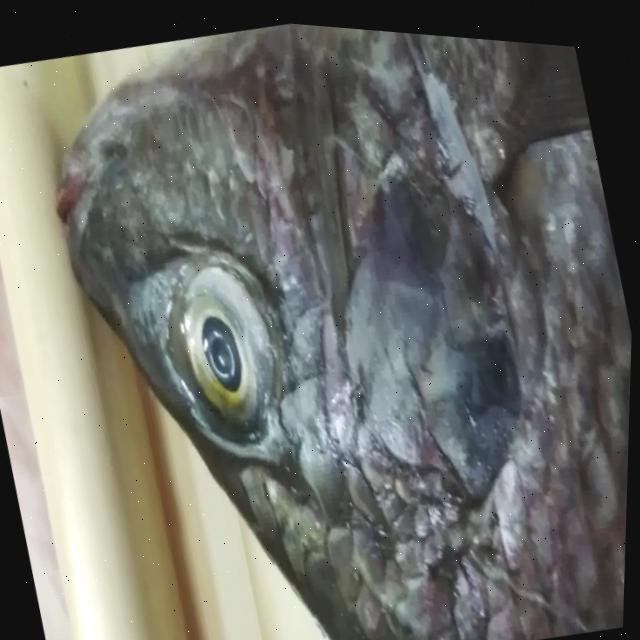Non-Fresh: (113, 193, 332, 504)
